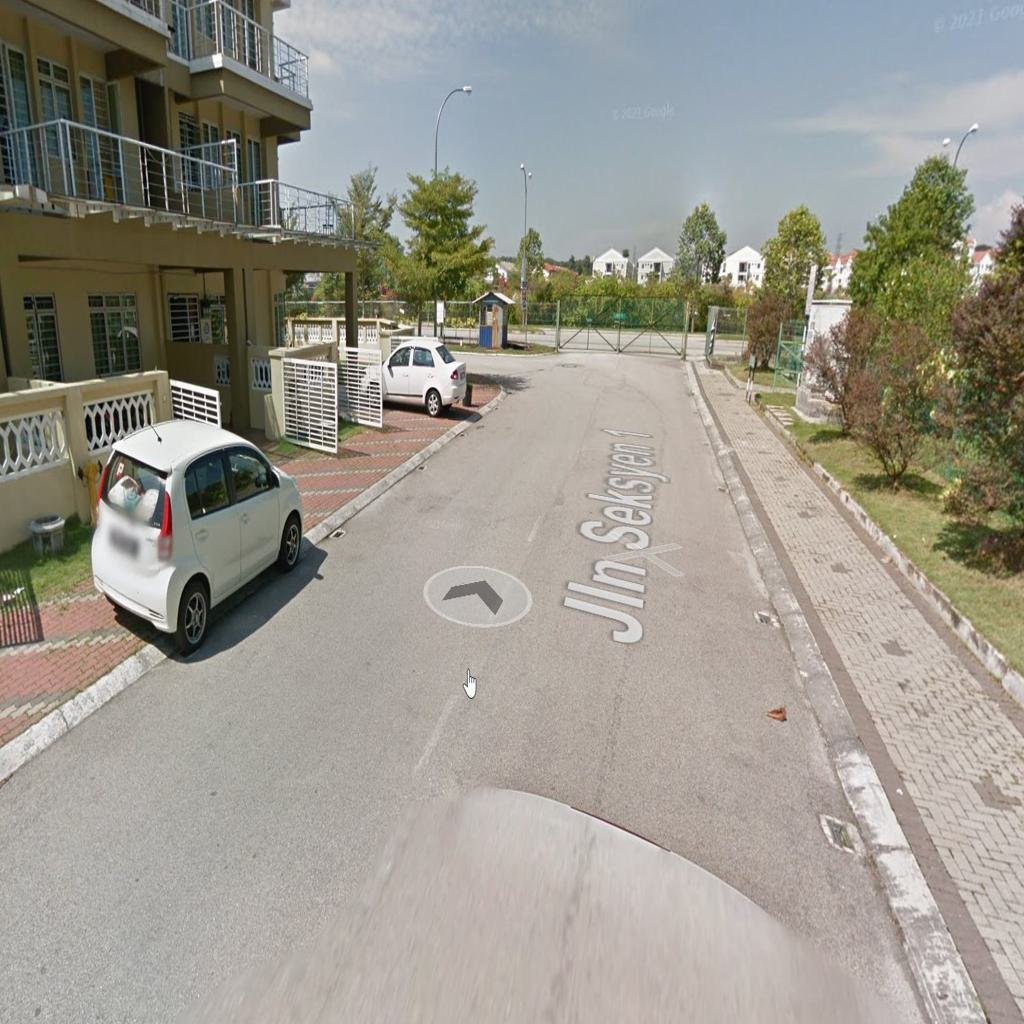Junction: (447, 323, 560, 403)
